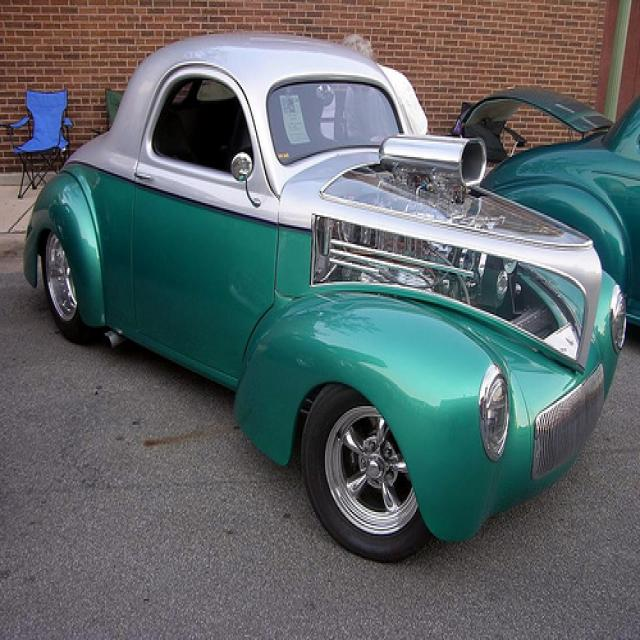Car: (26, 33, 623, 556)
